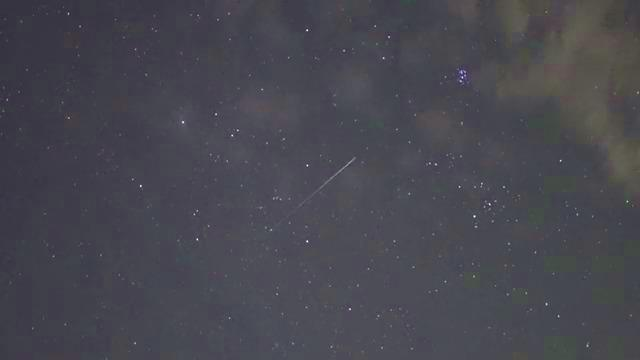meteorite: (283, 152, 368, 207)
